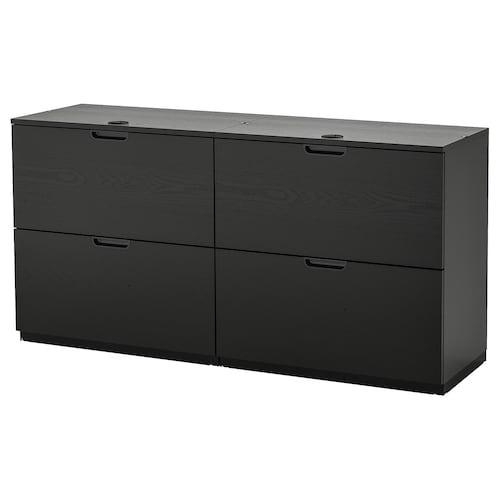cabinet_door: (217, 146, 443, 264), (216, 261, 441, 372), (15, 238, 214, 354), (14, 132, 214, 239)
handle: (305, 141, 348, 159), (303, 258, 349, 274), (92, 236, 133, 252), (88, 129, 128, 143)
